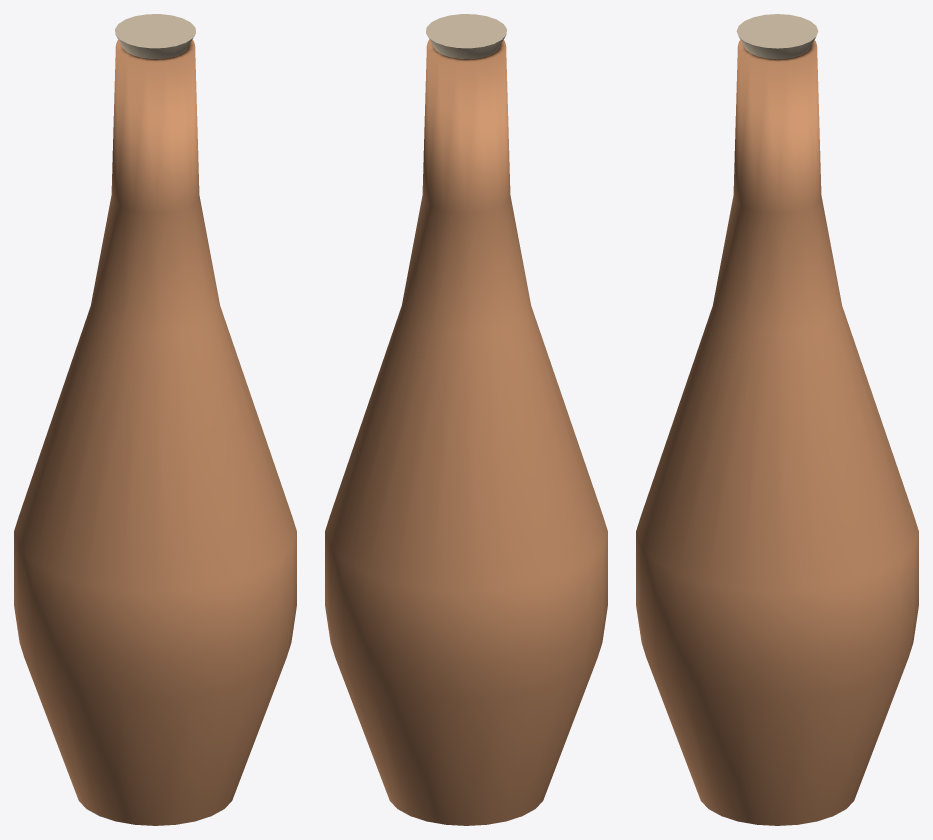
Rendered from FinalVase.fbx.
3 views of the same model, side by side, from view 1: azimuth 30°, elevation 25°; view 2: azimuth 150°, elevation 25°; view 3: azimuth 270°, elevation 25° (orthographic).
Visible parts, largest first — view 1: Vase, Cap; view 2: Vase, Cap; view 3: Vase, Cap.
Boxes of the visible parts, x1,y1,x2,y2 form: Vase: (14,40,296,825); Cap: (115,14,195,58); Vase: (325,40,607,825); Cap: (426,14,506,58); Vase: (636,40,918,825); Cap: (736,14,818,59).
Bounding box in the file's own units: 10.28 × 30.55 × 10.28.
